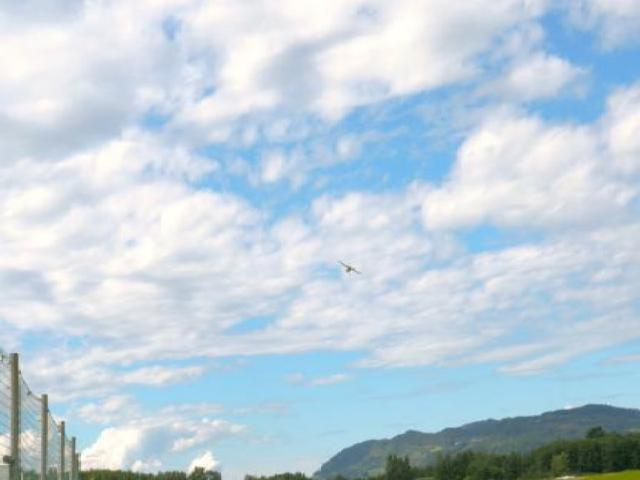uav: (336, 255, 364, 280)
